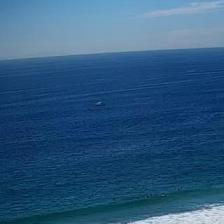surfer: (41, 213, 44, 216), (136, 197, 139, 200), (146, 195, 149, 198), (150, 192, 152, 196), (180, 186, 182, 190), (113, 198, 115, 201), (178, 188, 180, 190)
